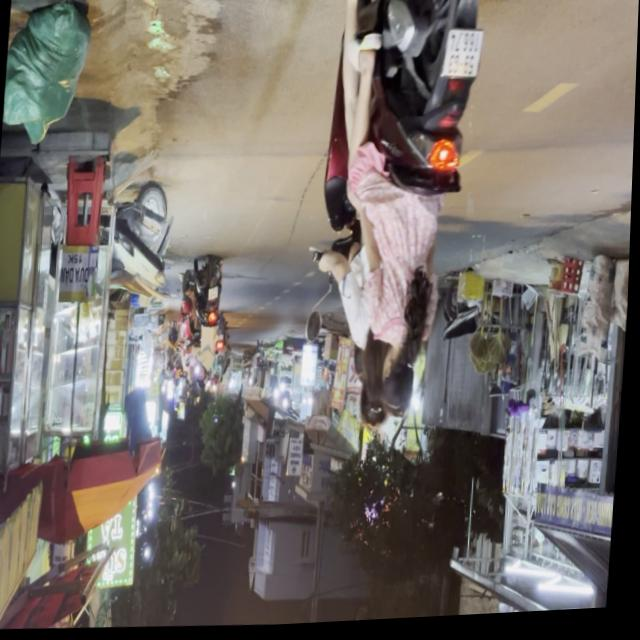licenseplate: (303, 0, 494, 440)
motorcyclist: (359, 343, 397, 434), (383, 346, 423, 421)
nohelmet: (443, 35, 484, 85)
